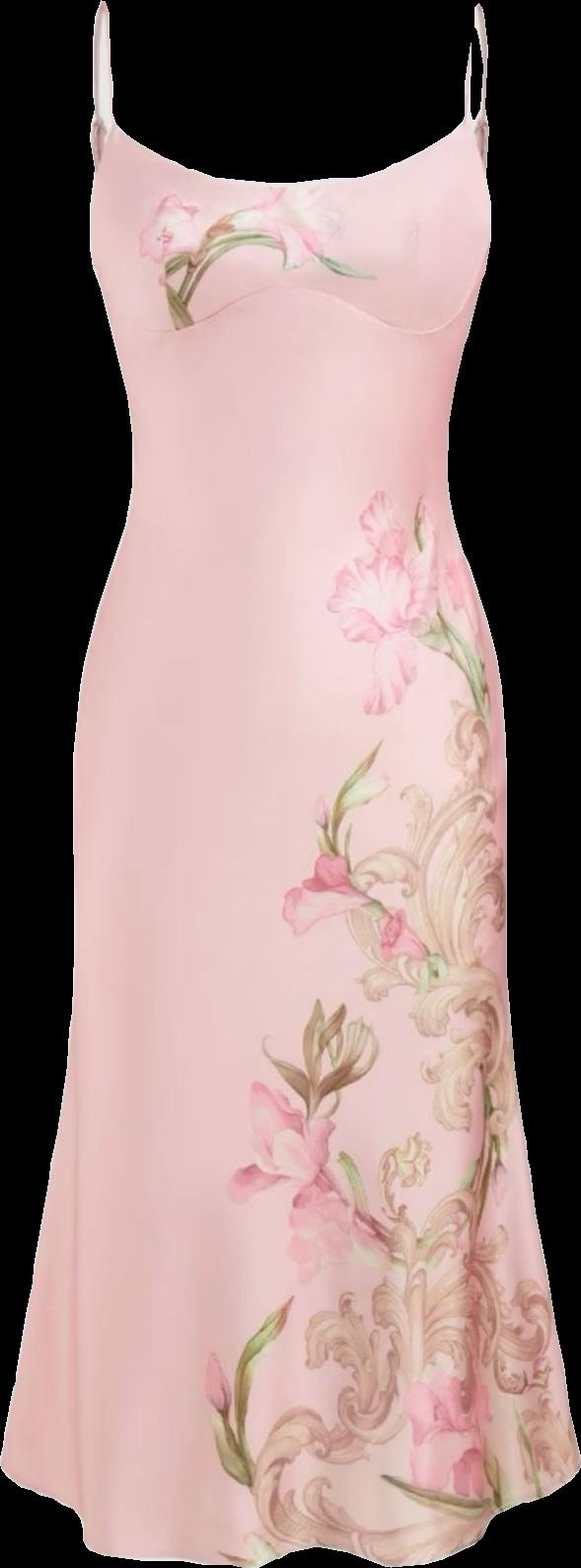Bodice: (90, 0, 490, 509)
Hemline: (0, 1454, 580, 1566)
Neckline: (93, 0, 491, 196), (107, 283, 481, 350)
Skirt: (0, 503, 580, 1567)
